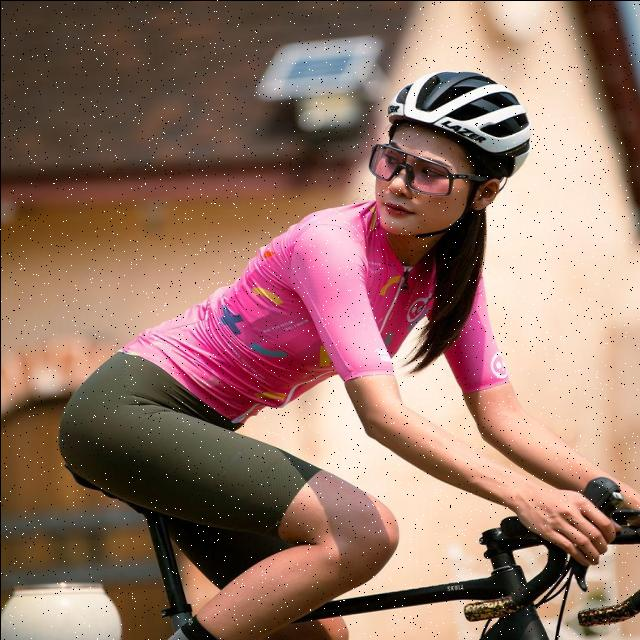Helmet: (387, 70, 531, 174)
